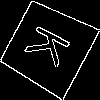K: (23, 22, 80, 74)
